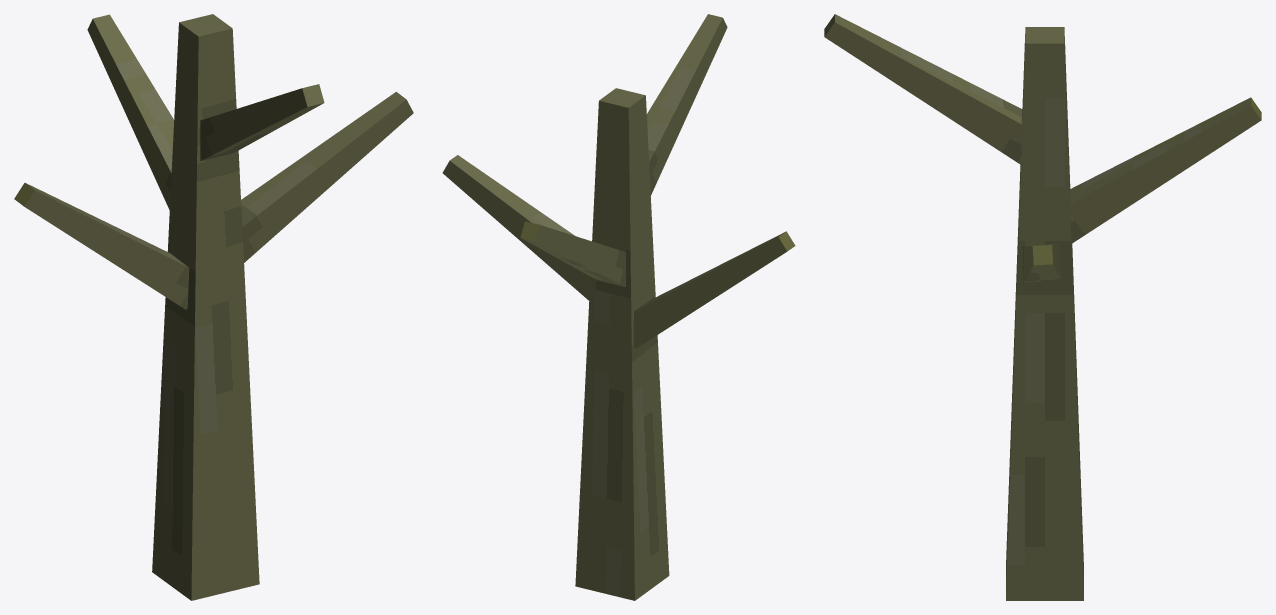
File: tree.gltf
3 renders of one model, left to right at view 1: azimuth 30°, elevation 25°; view 2: azimuth 150°, elevation 25°; view 3: azimuth 270°, elevation 25°, orthographic. The views are drawn at different scales.
Visible parts, largest first — view 1: trunk, branch_3 (×2), branch_1, branch_2; view 2: trunk, branch_3 (×2), branch_2, branch_1; view 3: trunk, branch_2, branch_1, branch_3.
Boxes of the visible parts, x1,y1,x2,y2 form: trunk: [152, 14, 259, 600]; branch_3 (×2): [14, 91, 413, 309]; branch_1: [87, 14, 174, 209]; branch_2: [200, 84, 324, 160]; trunk: [575, 88, 669, 600]; branch_3 (×2): [442, 155, 795, 348]; branch_2: [647, 14, 727, 195]; branch_1: [520, 221, 625, 286]; trunk: [1006, 27, 1083, 600]; branch_2: [824, 14, 1022, 164]; branch_1: [1070, 97, 1261, 243]; branch_3: [1022, 244, 1061, 283].
Bounding box in the file's own units: 1.44 × 2 × 1.4.
Materials: 1 (1 with a texture image).
